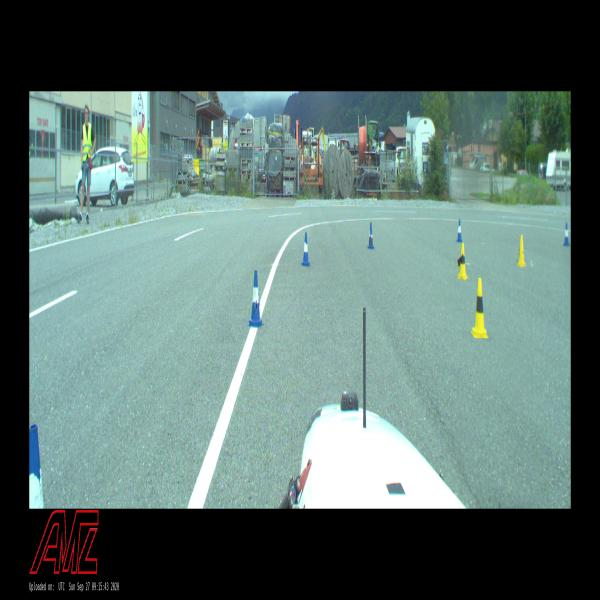blue_cone: (29, 423, 44, 509), (248, 270, 264, 326), (302, 232, 309, 266), (563, 223, 570, 246), (368, 223, 374, 249), (457, 219, 462, 242)
yellow_cone: (471, 278, 488, 338), (458, 245, 467, 279), (517, 235, 526, 267)
